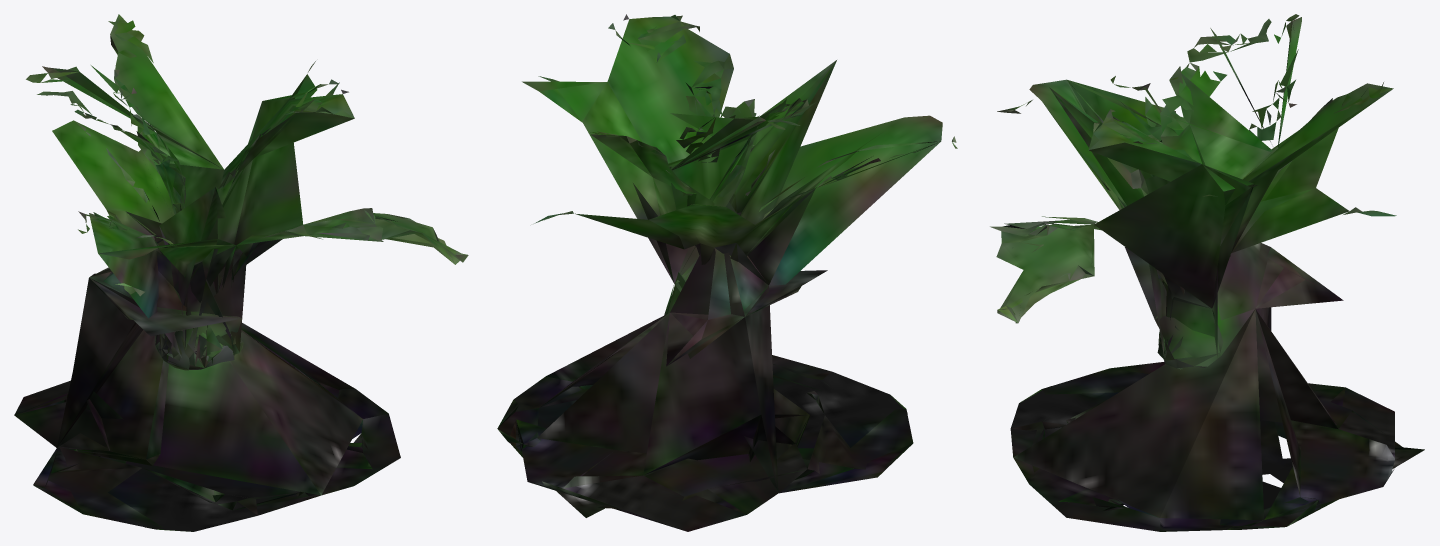
File: alien_plant_1225099865_lod0m.glb
3 views of the same model, side by side, from view 1: azimuth 30°, elevation 25°; view 2: azimuth 150°, elevation 25°; view 3: azimuth 270°, elevation 25° (orthographic). The views are drawn at different scales.
Size of the model in its own units: 2.08 by 2.13 by 2.19.
Materials: 1 (1 with a texture image).
